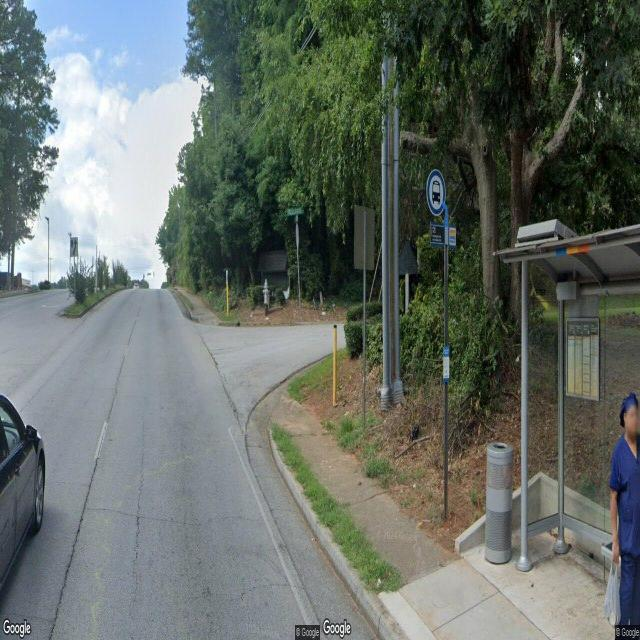seating: (601, 540, 640, 588)
shelter: (494, 221, 640, 636)
trash_can: (484, 441, 514, 566)
